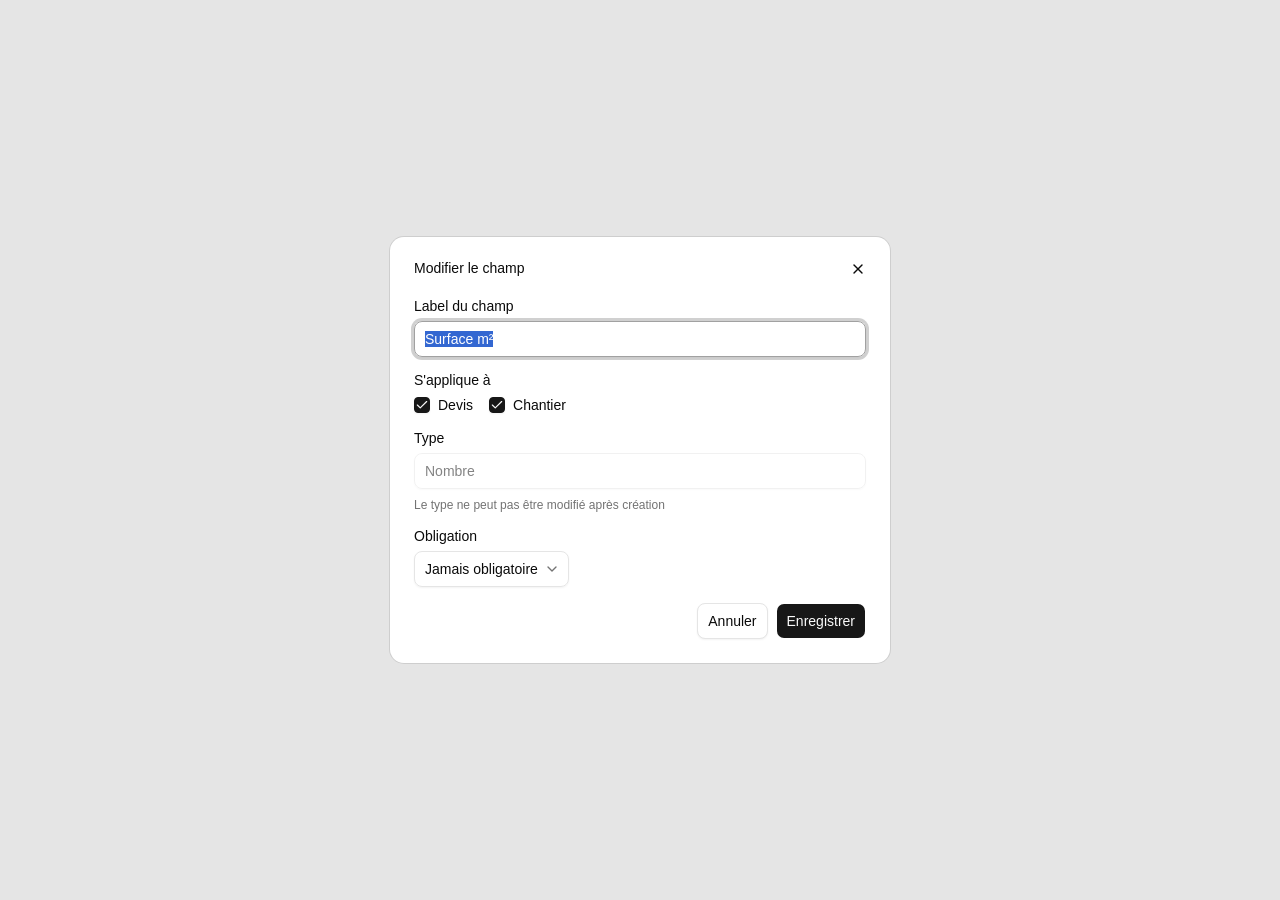
Test case: EditCustomFieldDialog › shows validation error when label contains colon
The width and height of the screenshot is (1280, 900).
Replace the text in the field showing "Surface m²" with "Type:travaux": (640, 339) [414,321,866,357]
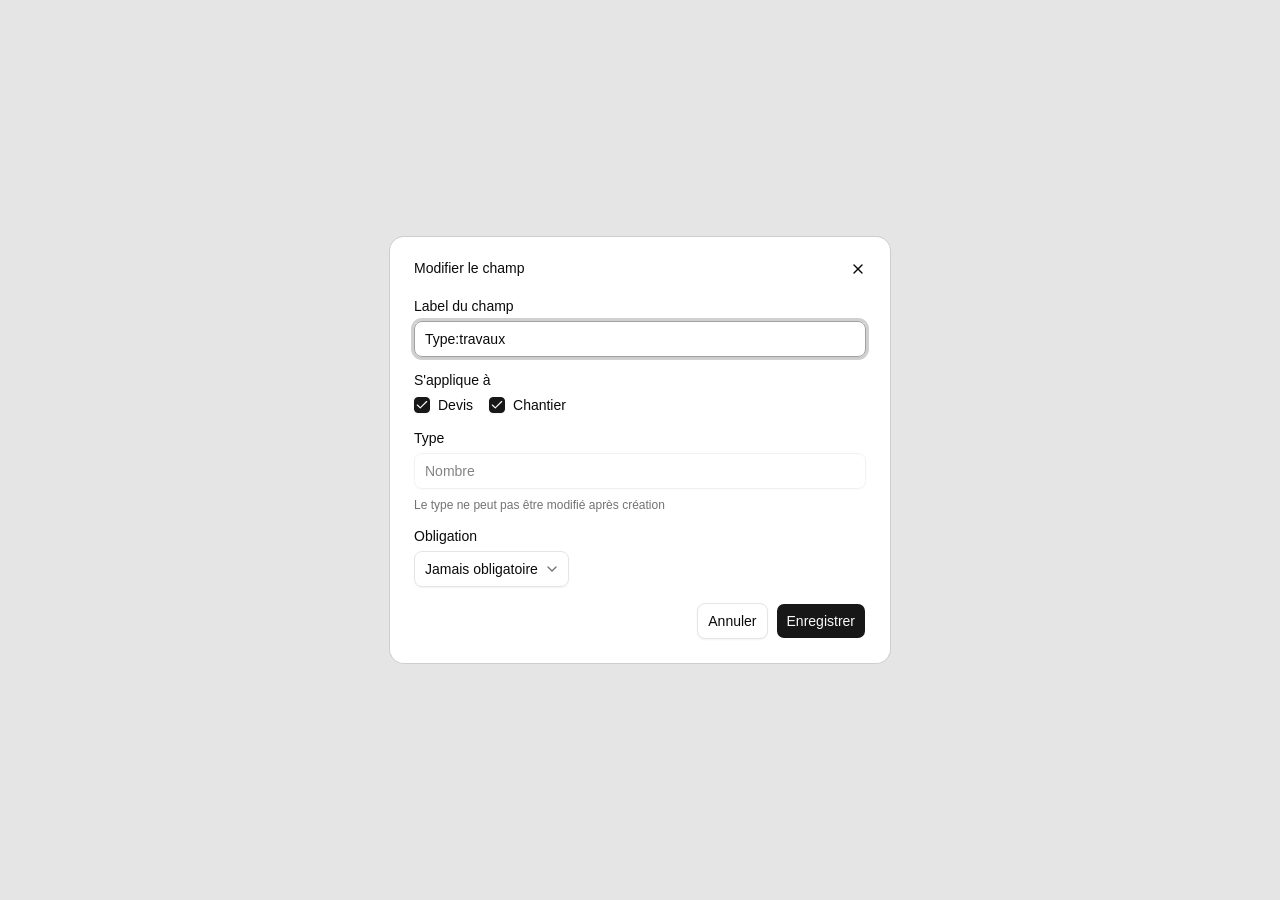
Click the button "Enregistrer": (821, 621) [776,603,866,639]
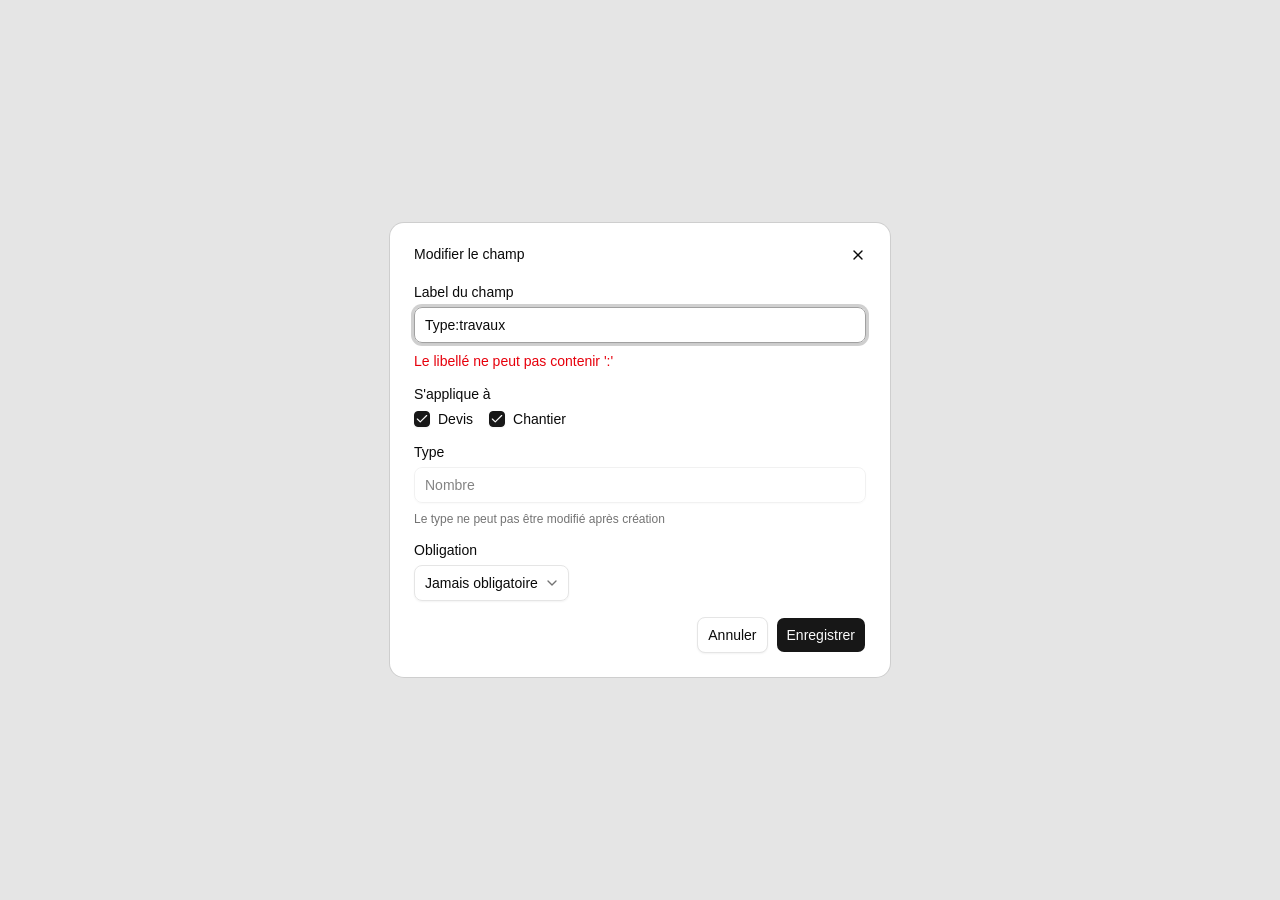
expect the text "Le libellé ne peut pas contenir ':'" is shown: met, box [414,353,613,369]
